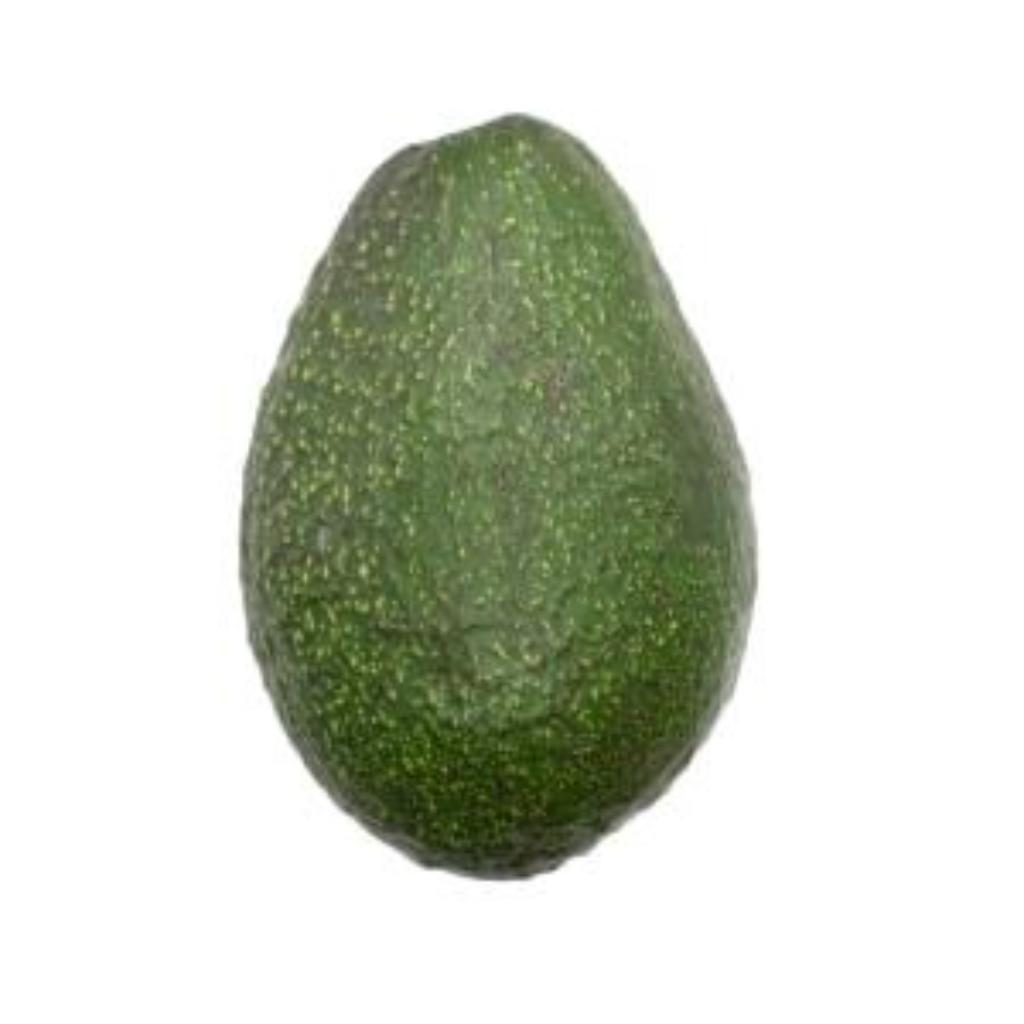cercospora_spot: (222, 107, 774, 889)
